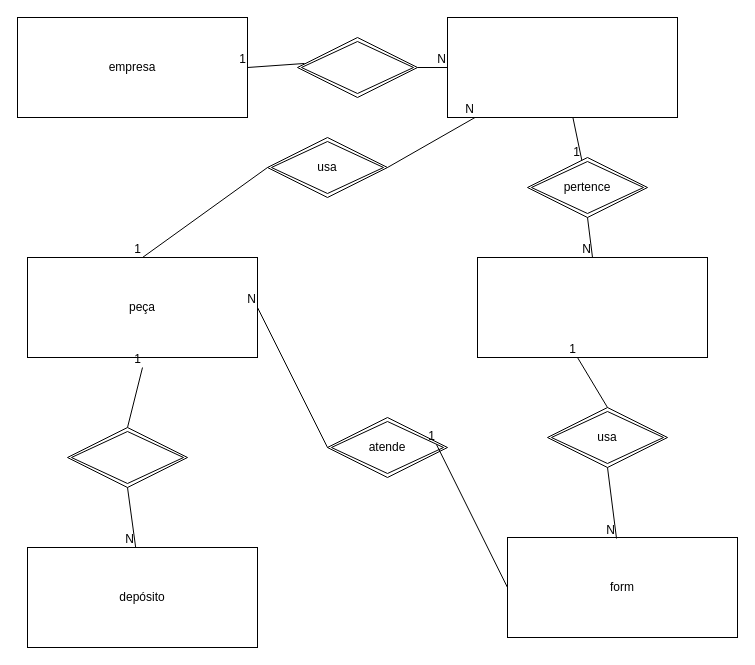
Image size: 755x665. Some labels were removed from this diagram. The centre of each missing label's shape, as x and y in pixels:
"contem" goes at pixel 127 457.
"funcionário" goes at pixel 562 67.
"projeto" goes at pixel 592 307.
"tem" goes at pixel 357 67.
